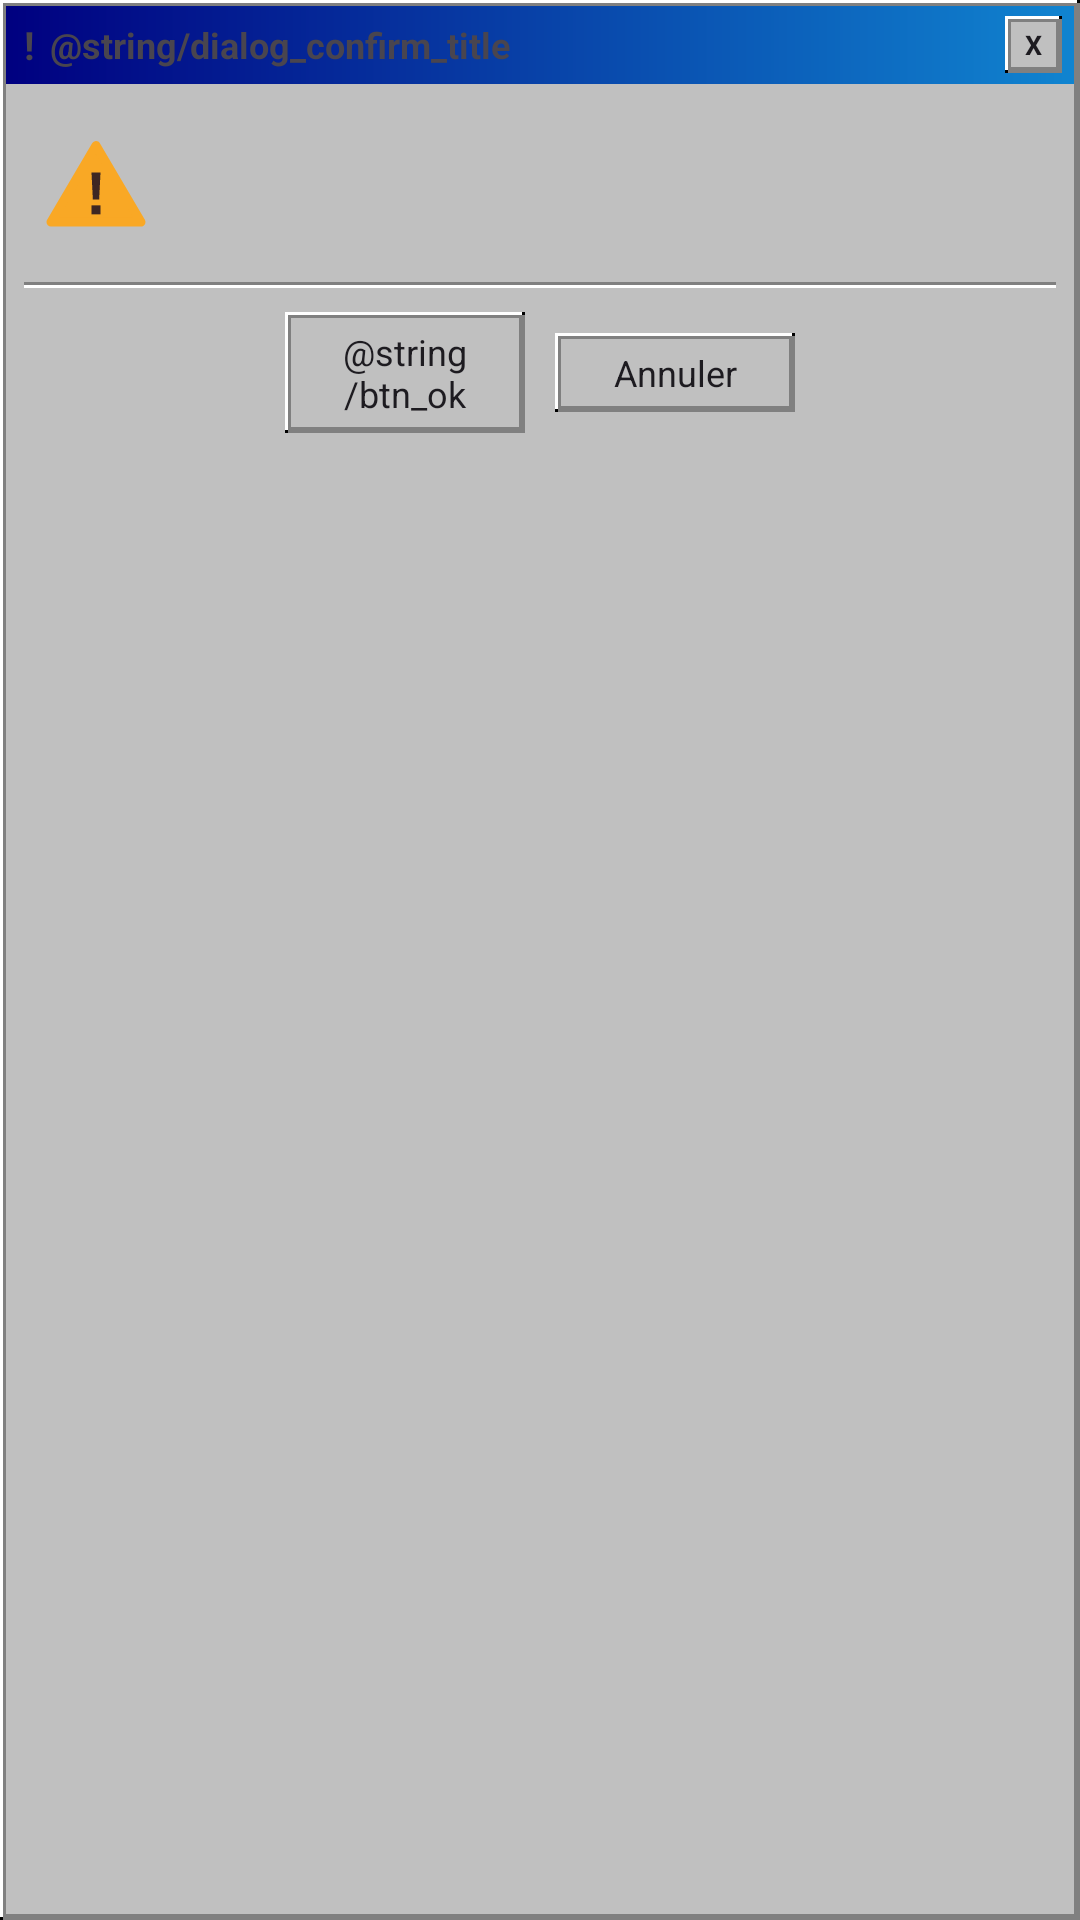

Icons on this 1080 × 1920 Android screen, each with the point to tap as [x,y]:
warning: [96,184]
